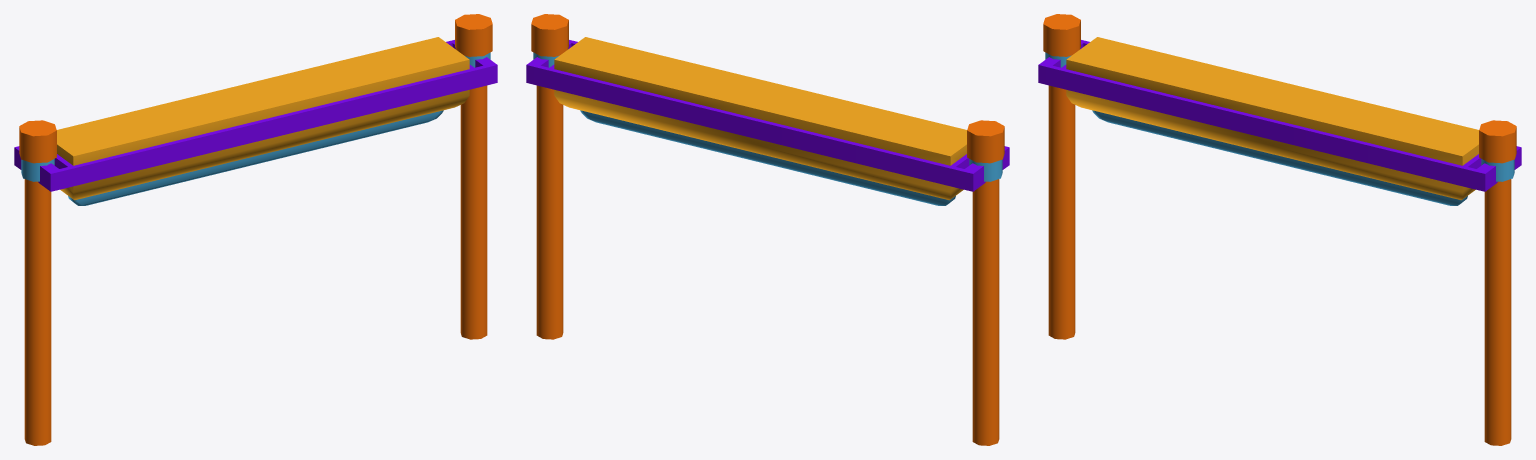
The model's file is Wide_Crasher_02.fbx.
3 views of the same model, side by side, from view 1: azimuth 30°, elevation 25°; view 2: azimuth 150°, elevation 25°; view 3: azimuth 330°, elevation 25° (orthographic).
Parts seen in each view (by area): view 1: Obstacle_Wide_Crasher_02_Holder, Obstacle_Wide_Crasher_02; view 2: Obstacle_Wide_Crasher_02_Holder, Obstacle_Wide_Crasher_02; view 3: Obstacle_Wide_Crasher_02_Holder, Obstacle_Wide_Crasher_02.
Part boxes in pixels (x1=…): Obstacle_Wide_Crasher_02_Holder: x1=14, y1=37, x2=497, y2=205; Obstacle_Wide_Crasher_02: x1=19, y1=14, x2=492, y2=445; Obstacle_Wide_Crasher_02_Holder: x1=526, y1=37, x2=1009, y2=205; Obstacle_Wide_Crasher_02: x1=531, y1=14, x2=1004, y2=445; Obstacle_Wide_Crasher_02_Holder: x1=1038, y1=37, x2=1521, y2=205; Obstacle_Wide_Crasher_02: x1=1043, y1=14, x2=1516, y2=445.
Bounding box in the file's own units: 470 × 298 × 63.35.
1 material, 1 textured.
